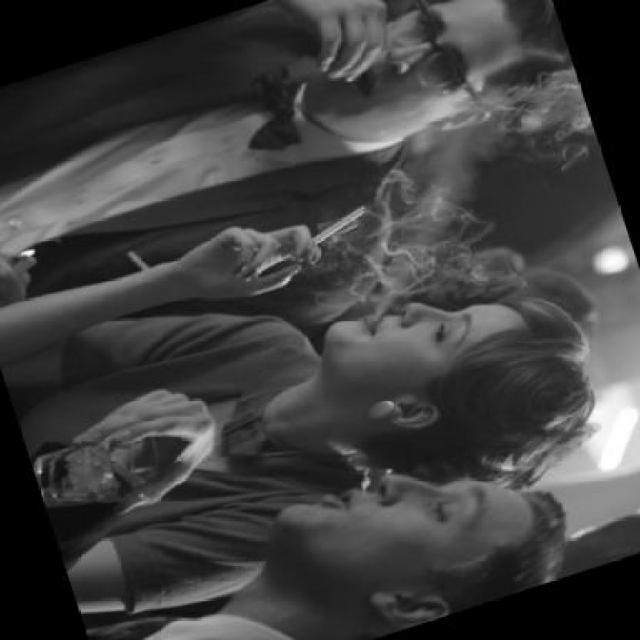smoke: (304, 202, 378, 250)
